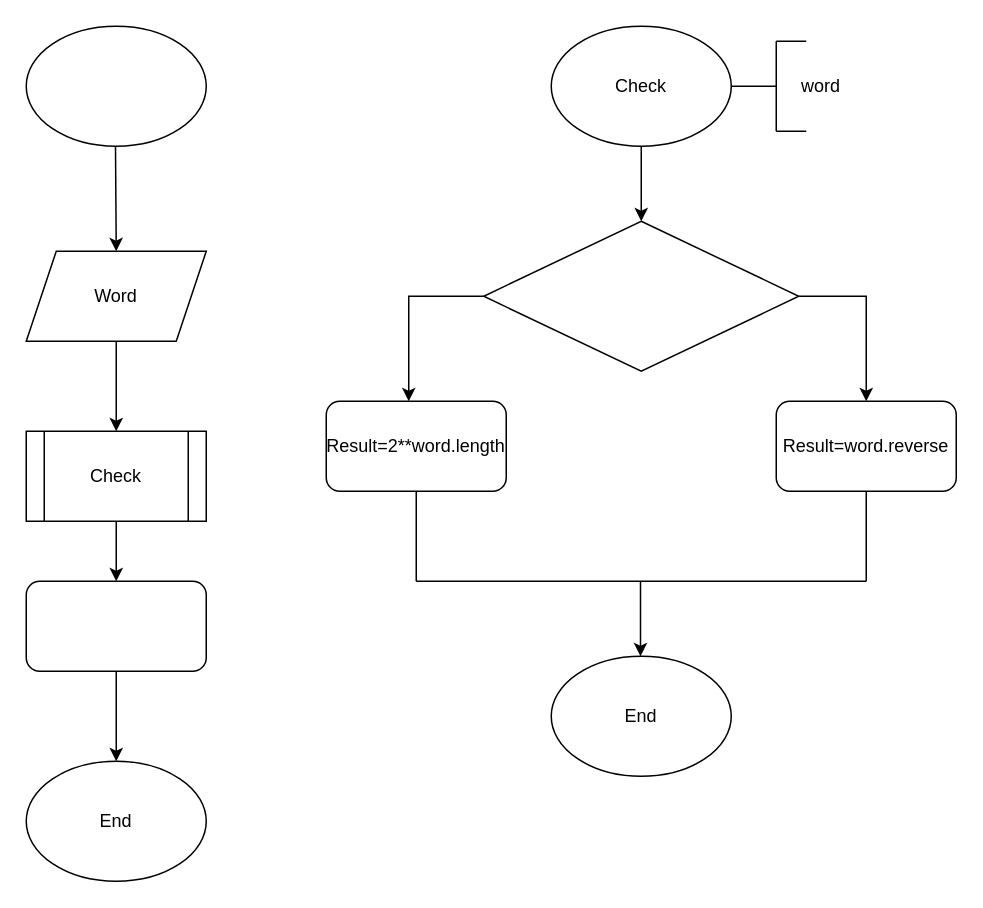
The diagram is 983 pixels wide and 908 high, and some of its shapes have lost their labels. Each missing label, with the box of its shape:
Result: (25, 580, 206, 671)
Start: (25, 25, 206, 146)
word[-2].upcase=="C" && word[-1].upcase=="S": (482, 220, 799, 371)
